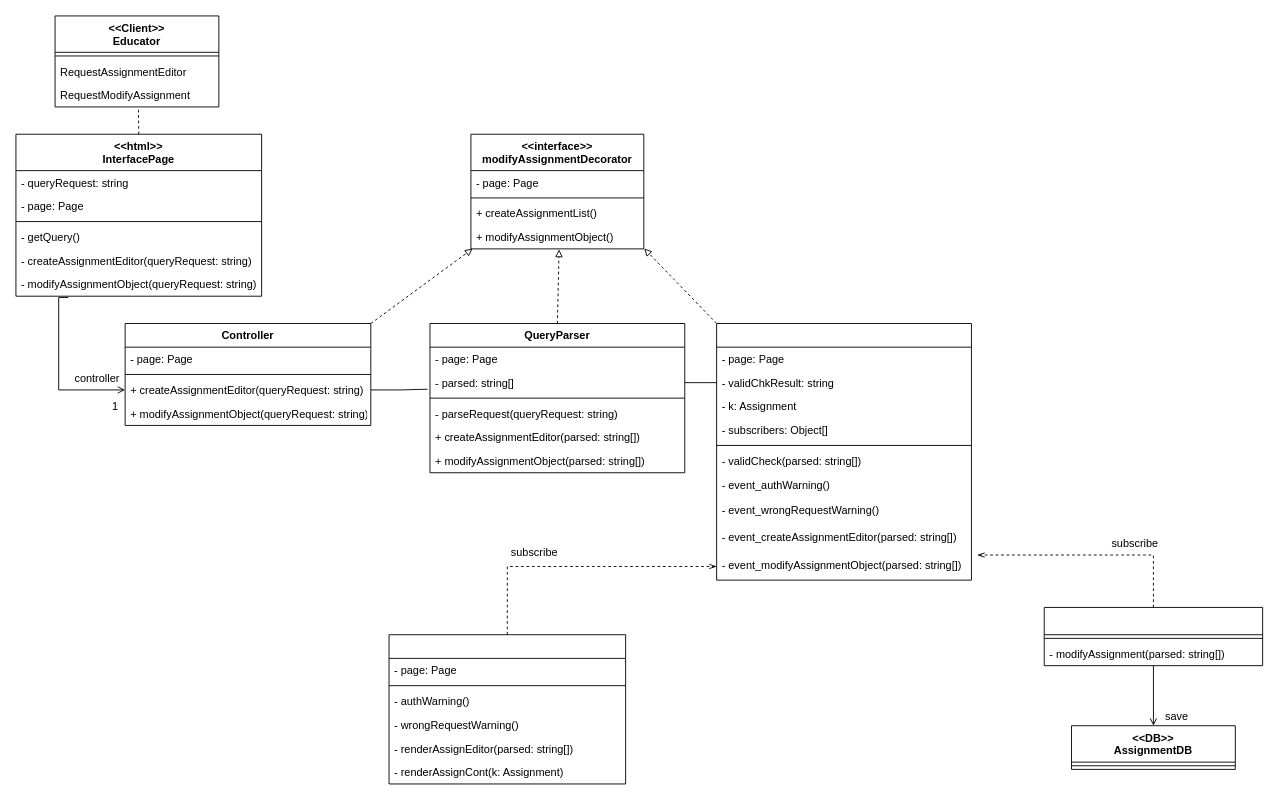
The diagram is 1279 pixels wide and 803 high, and some of its shapes have lost their labels. Here are the shapes that lost their labels. From the top down, the box of each, then its label:
(716, 323, 971, 580): ValidChecker
(1043, 607, 1263, 666): AssignmentDBConnection
(388, 634, 626, 784): PageMaker
